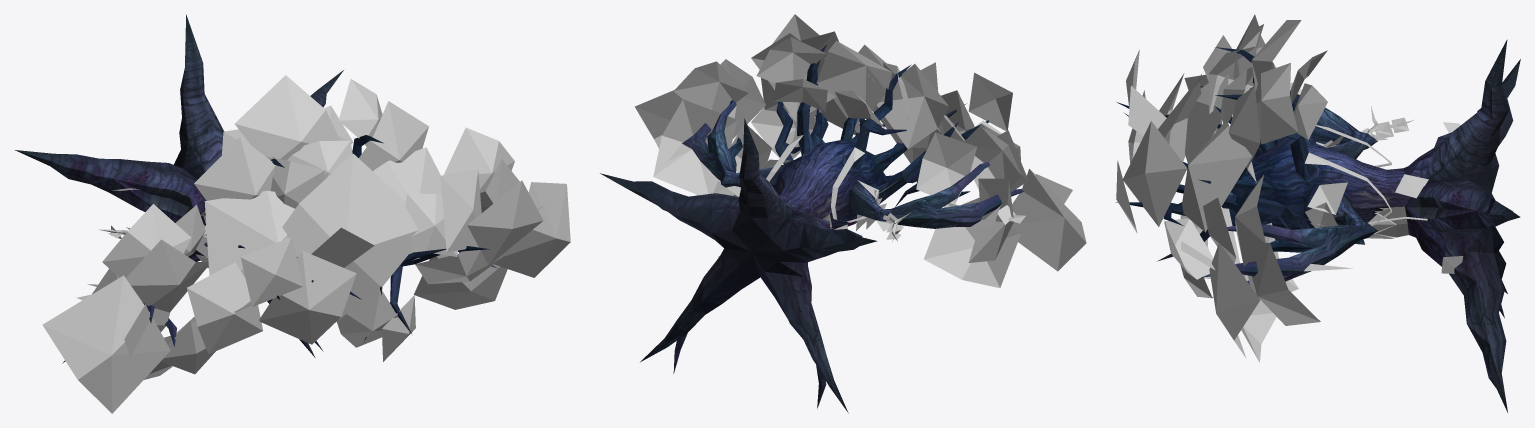
Rendered from treeman.obj.
The picture shows the model from 3 angles, left to right: view 1: azimuth 30°, elevation 25°; view 2: azimuth 150°, elevation 25°; view 3: azimuth 270°, elevation 25°; orthographic projection. The views are drawn at different scales.
Parts seen in each view (by area): view 1: treeman; view 2: treeman; view 3: treeman.
Boxes of the visible parts, x1,y1,x2,y2 form: treeman: (15, 14, 570, 413); treeman: (600, 14, 1086, 413); treeman: (1116, 14, 1520, 412).
Bounding box in the file's own units: 6909 × 4289 × 4674.
